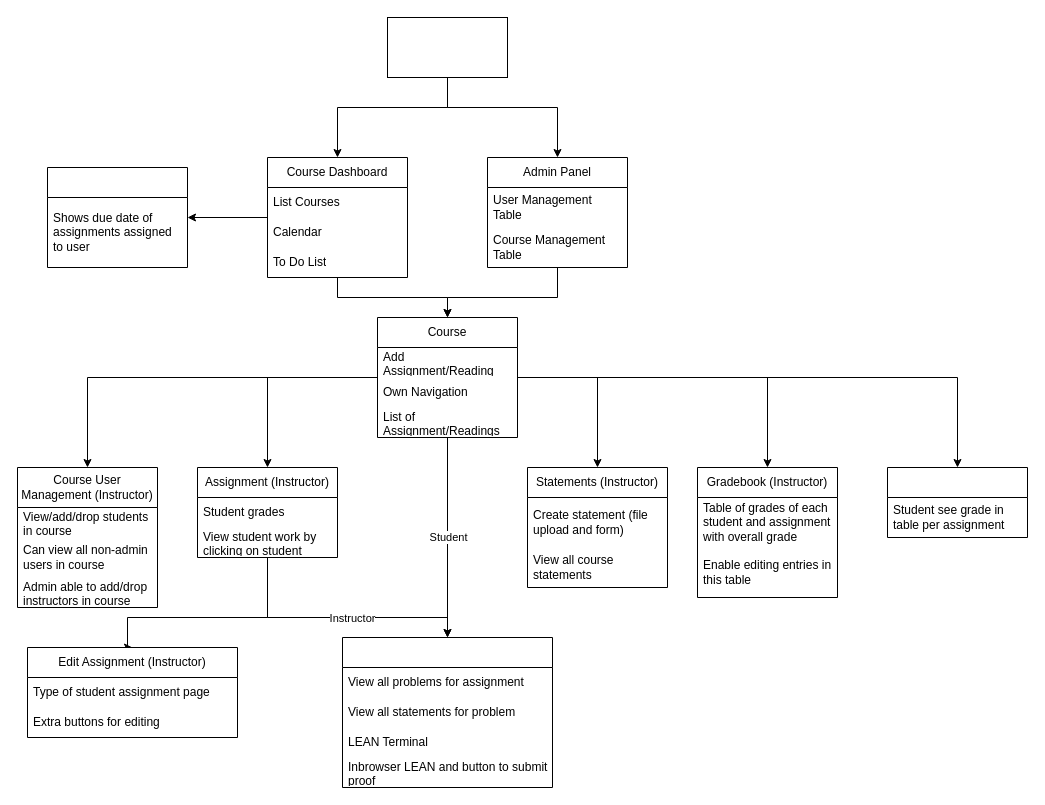
This 1045x805 diagram has some shape labels left out. Each missing label, with the box of its shape:
Calendar Page: (46, 166, 188, 268)
Grades (Student): (886, 466, 1028, 538)
Login: (386, 16, 508, 78)
Student Assignment: (342, 636, 552, 788)
